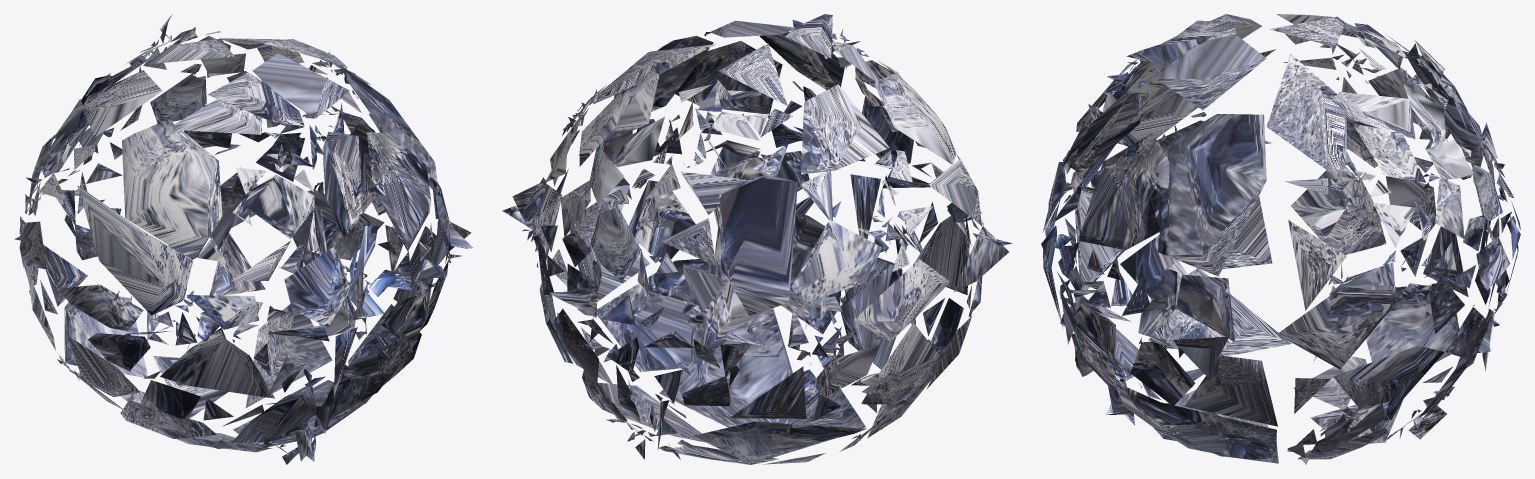
File: MAHWORLD_OVERSIZED_MOON_L1.glb
3 views of the same model, side by side, from view 1: azimuth 30°, elevation 25°; view 2: azimuth 150°, elevation 25°; view 3: azimuth 270°, elevation 25° (orthographic). The views are drawn at different scales.
Visible parts, largest first — view 1: MAHWORLD_OVERSIZED_MOON_L1; view 2: MAHWORLD_OVERSIZED_MOON_L1; view 3: MAHWORLD_OVERSIZED_MOON_L1.
Boxes of the visible parts, x1,y1,x2,y2 form: MAHWORLD_OVERSIZED_MOON_L1: (14, 15, 473, 464); MAHWORLD_OVERSIZED_MOON_L1: (502, 14, 1012, 464); MAHWORLD_OVERSIZED_MOON_L1: (1041, 14, 1520, 464).
Size of the model in its own units: 0.9458 by 0.9166 by 0.9672.
Materials: 1 (1 with a texture image).
